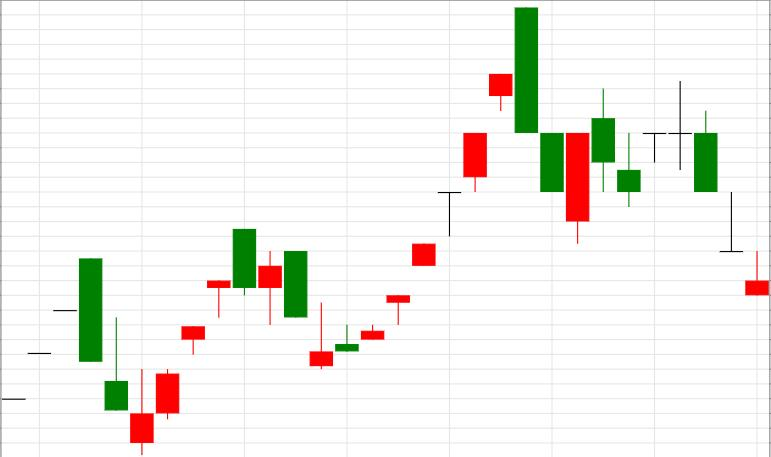bearish_engulfing_fall: (361, 7, 538, 340)
inverse_hammer_rise: (53, 258, 154, 454)
